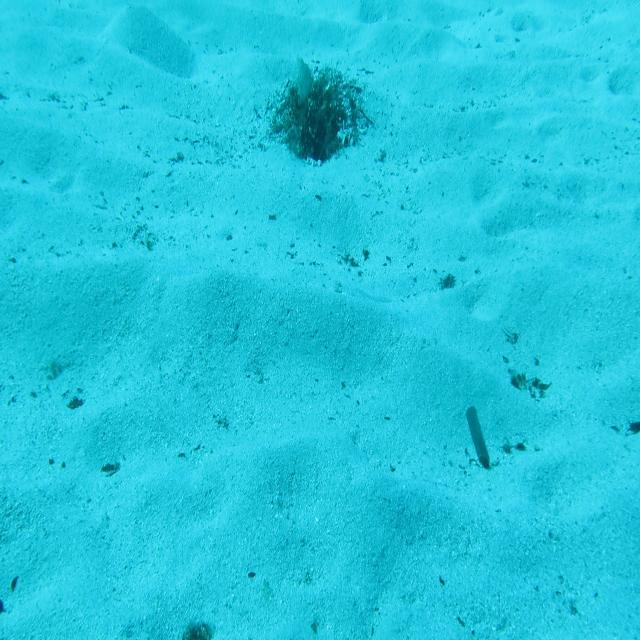NIP_IN: (295, 52, 314, 108)
nest: (274, 64, 370, 165)
vegetation: (465, 404, 497, 470), (508, 365, 554, 399), (437, 272, 458, 292)
